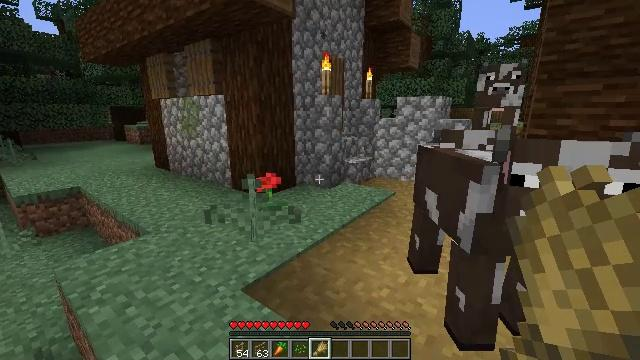cow: (422, 131, 637, 351), (474, 57, 521, 129)
